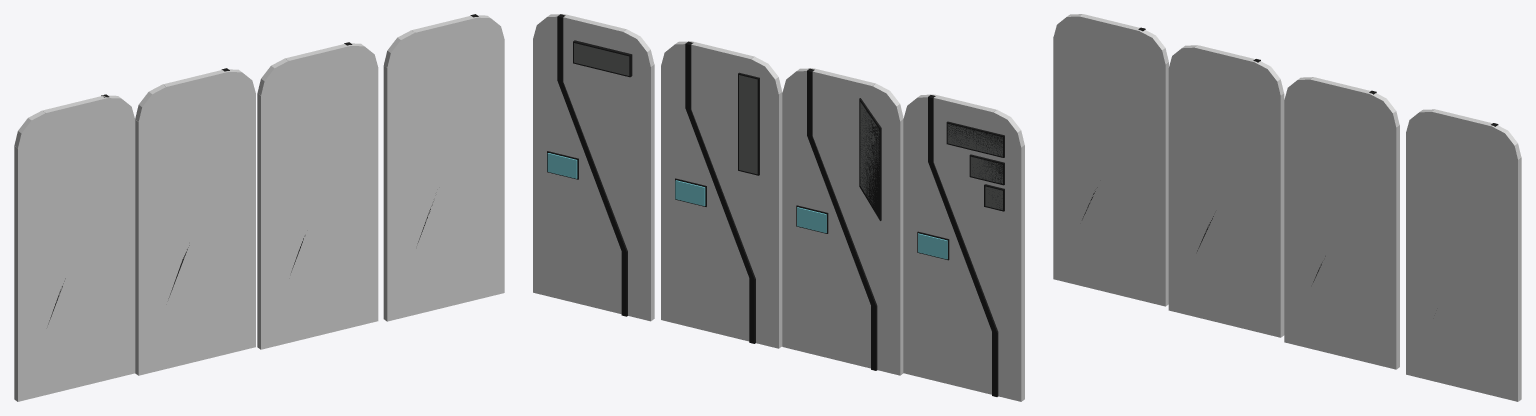
The model's file is SciFi Door Iterations.glb.
3 renders of one model, left to right at view 1: azimuth 30°, elevation 25°; view 2: azimuth 150°, elevation 25°; view 3: azimuth 330°, elevation 25°, orthographic. The views are drawn at different scales.
Parts seen in each view (by area): view 1: group1978371866, group1249045372, group3100910, group1990951375, group590370012, group758246107, group381783444, group765638590, group977409738, group740323382, group1470333949, group227420010 (+4 smaller); view 2: group1978371866, group3100910, group1249045372, group1990951375, group1568768563, group2068261501, group1927398855, group1488284548, group227420010, group740323382, group78932756, group765638590 (+29 smaller); view 3: group1990951375, group1978371866, group3100910, group1249045372, group758246107, group590370012, group381783444, group1470333949, group227420010, group1568768563, group765638590, group977409738 (+4 smaller).
Boxes of the visible parts, box(x1,y1,x2,y2) form: group1978371866: box(383, 39, 504, 321); group1249045372: box(257, 67, 378, 349); group3100910: box(14, 120, 135, 401); group1990951375: box(135, 93, 255, 375); group590370012: box(42, 95, 107, 141); group758246107: box(412, 15, 476, 60); group381783444: box(285, 44, 350, 83); group765638590: box(135, 84, 192, 121); group977409738: box(257, 58, 312, 95); group740323382: box(163, 70, 227, 111); group1470333949: box(201, 69, 255, 106); group227420010: box(450, 15, 504, 52); group1978371866: box(533, 39, 654, 321); group3100910: box(903, 120, 1024, 401); group1249045372: box(661, 67, 782, 348); group1990951375: box(782, 93, 903, 375); group1568768563: box(661, 41, 716, 101); group2068261501: box(738, 72, 759, 175); group1927398855: box(859, 98, 881, 220); group1488284548: box(903, 94, 956, 154); group227420010: box(533, 14, 585, 74); group740323382: box(812, 68, 875, 113); group78932756: box(598, 29, 654, 89); group765638590: box(845, 83, 903, 143); group1990951375: box(1168, 68, 1284, 337); group1978371866: box(1406, 132, 1521, 401); group3100910: box(1053, 37, 1168, 306); group1249045372: box(1284, 100, 1399, 369); group758246107: box(1432, 109, 1492, 152); group590370012: box(1080, 14, 1139, 57); group381783444: box(1311, 77, 1370, 120); group1470333949: box(1228, 61, 1283, 95); group227420010: box(1466, 125, 1521, 159); group1568768563: box(1344, 93, 1399, 127); group765638590: box(1169, 45, 1220, 80); group977409738: box(1284, 77, 1336, 112).
Size of the model in its own units: 4.68 by 2.68 by 0.1.
